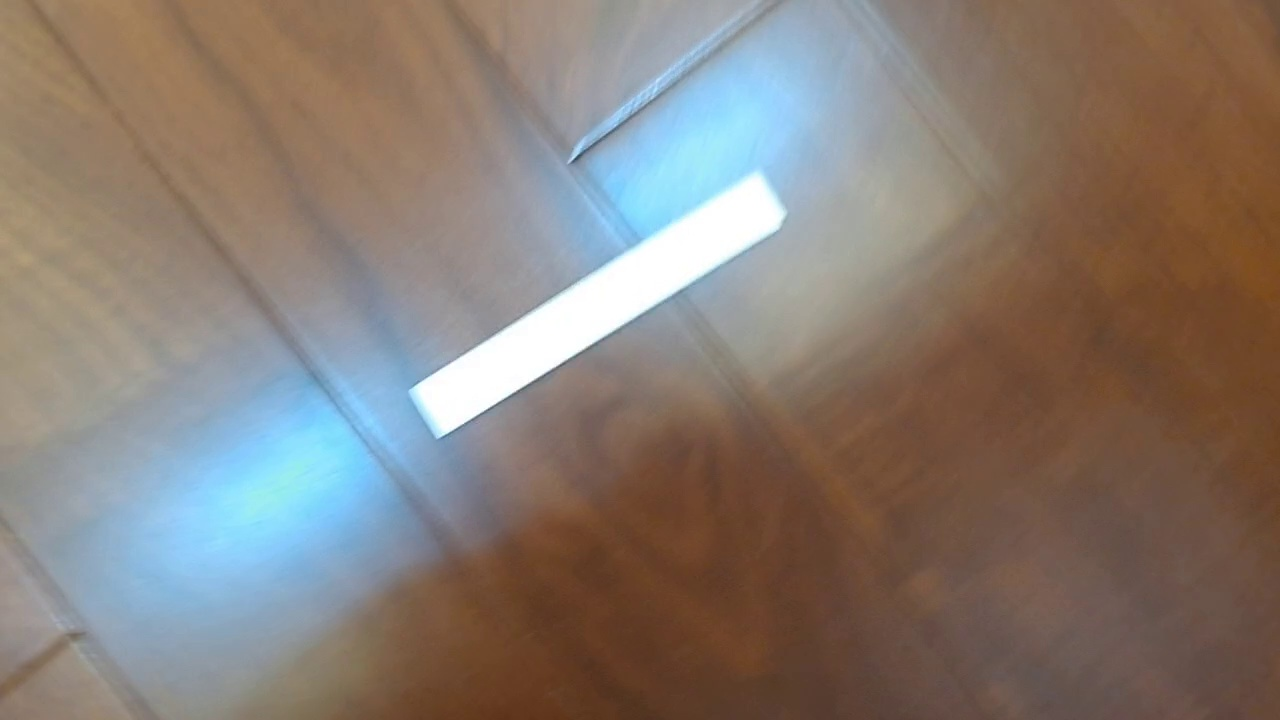ruler: (406, 164, 791, 442)
